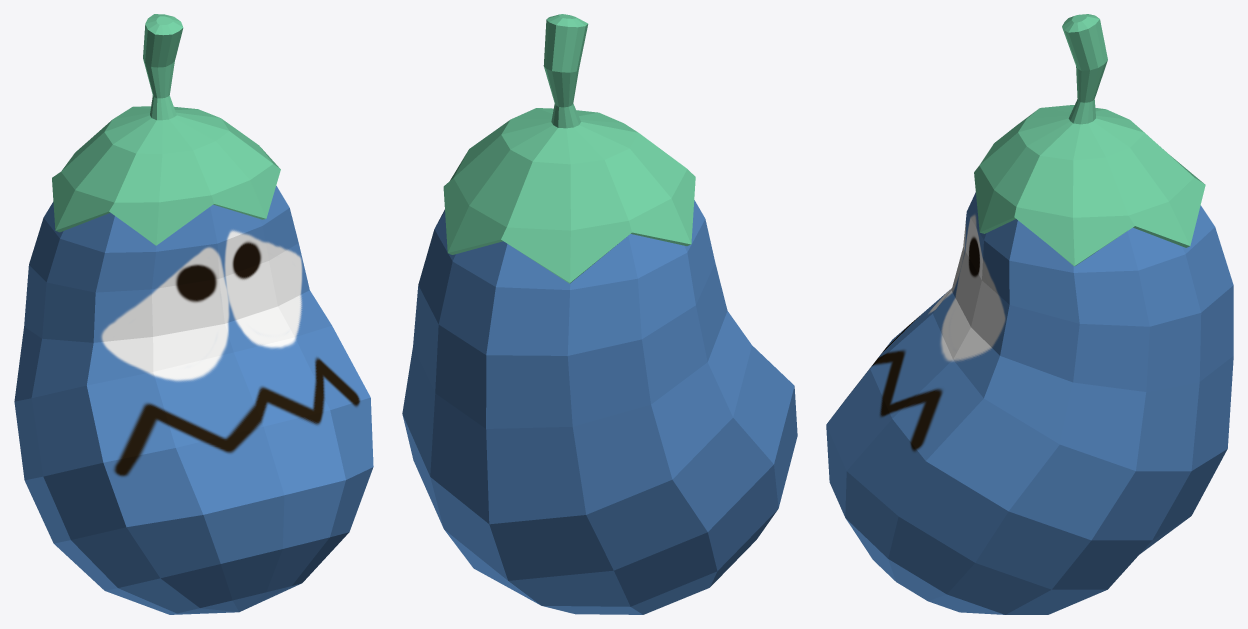
File: Eggplant.fbx
3 views of the same model, side by side, from view 1: azimuth 30°, elevation 25°; view 2: azimuth 150°, elevation 25°; view 3: azimuth 270°, elevation 25° (orthographic). The views are drawn at different scales.
Parts seen in each view (by area): view 1: Eggplant; view 2: Eggplant; view 3: Eggplant.
Part boxes in pixels (left/top/right/bottom): Eggplant: left=14, top=14, right=373, bottom=614; Eggplant: left=402, top=14, right=797, bottom=614; Eggplant: left=826, top=14, right=1233, bottom=614.
Size of the model in its own units: 19.16 by 32.98 by 20.84.
